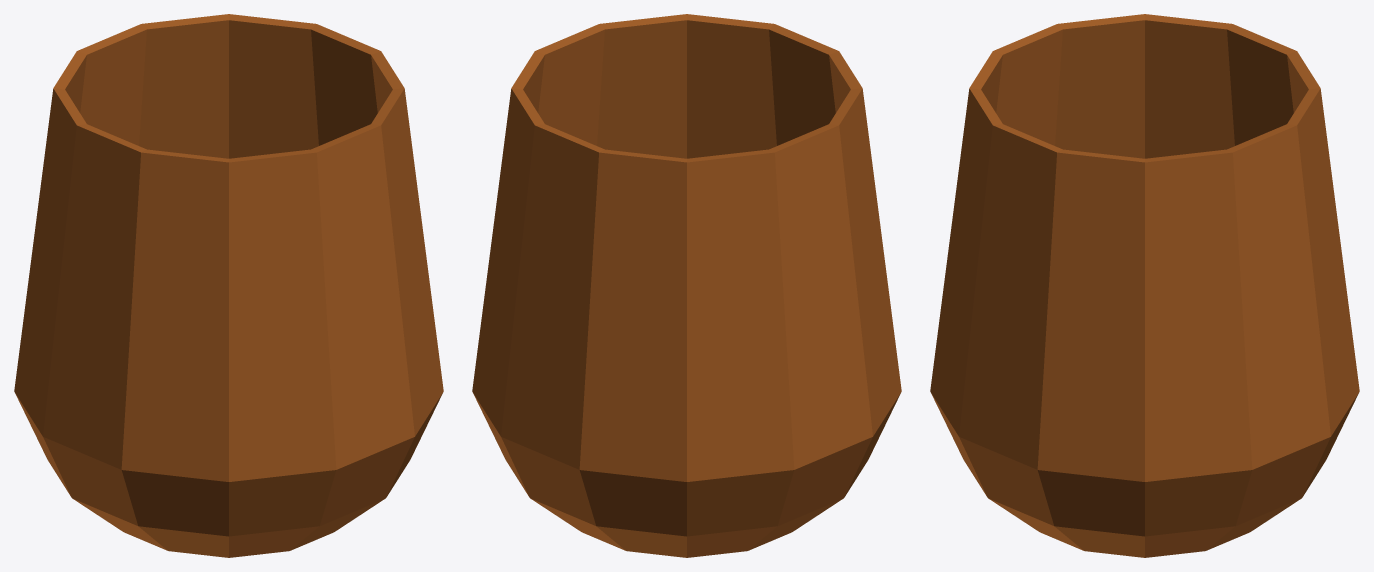
Rendered from SM_pottery_001.FBX.
The picture shows the model from 3 angles, left to right: view 1: azimuth 30°, elevation 25°; view 2: azimuth 150°, elevation 25°; view 3: azimuth 270°, elevation 25°; orthographic projection.
Parts seen in each view (by area): view 1: Object085; view 2: Object085; view 3: Object085.
Boxes of the visible parts, x1,y1,x2,y2 form: Object085: (14, 14, 443, 557); Object085: (472, 14, 901, 557); Object085: (930, 14, 1359, 557).
Size of the model in its own units: 62.62 by 67.3 by 62.62.
